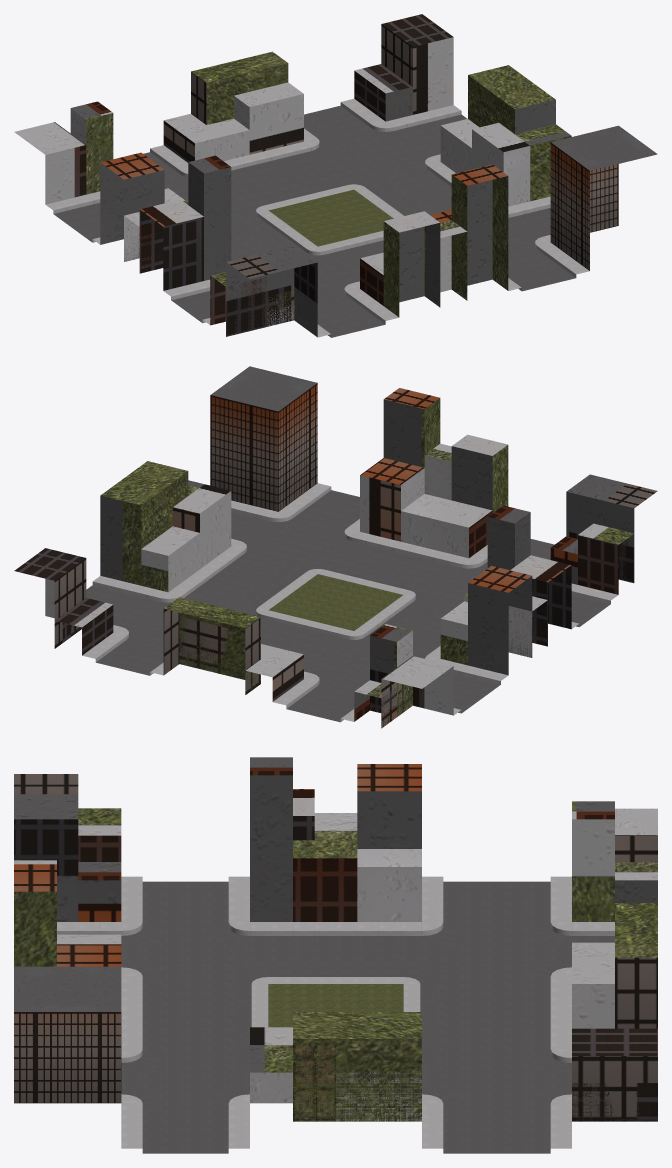
File: levelfixed.fbx
3 renders of one model, top to bottom at view 1: azimuth 30°, elevation 25°; view 2: azimuth 150°, elevation 25°; view 3: azimuth 270°, elevation 25°, orthographic. The views are drawn at different scales.
Visible parts, largest first — view 1: level:level; view 2: level:level; view 3: level:level.
Part boxes in pixels (box(x1,y1,x2,y2)): level:level: box(14, 14, 657, 337); level:level: box(14, 366, 657, 728); level:level: box(14, 757, 657, 1153).
Size of the model in its own units: 3812 by 1061 by 3812.
Materials: 1 (1 with a texture image).
